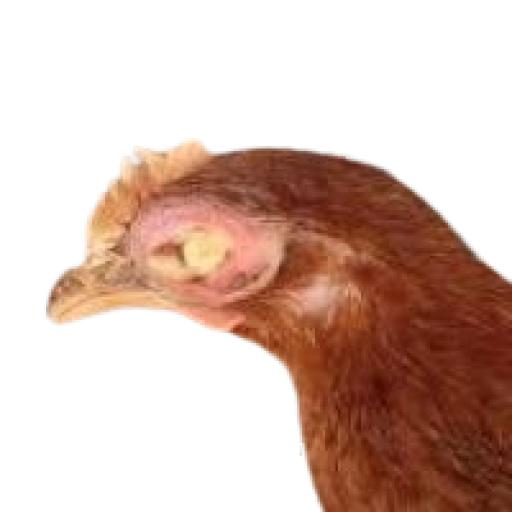disease: (132, 194, 285, 300)
